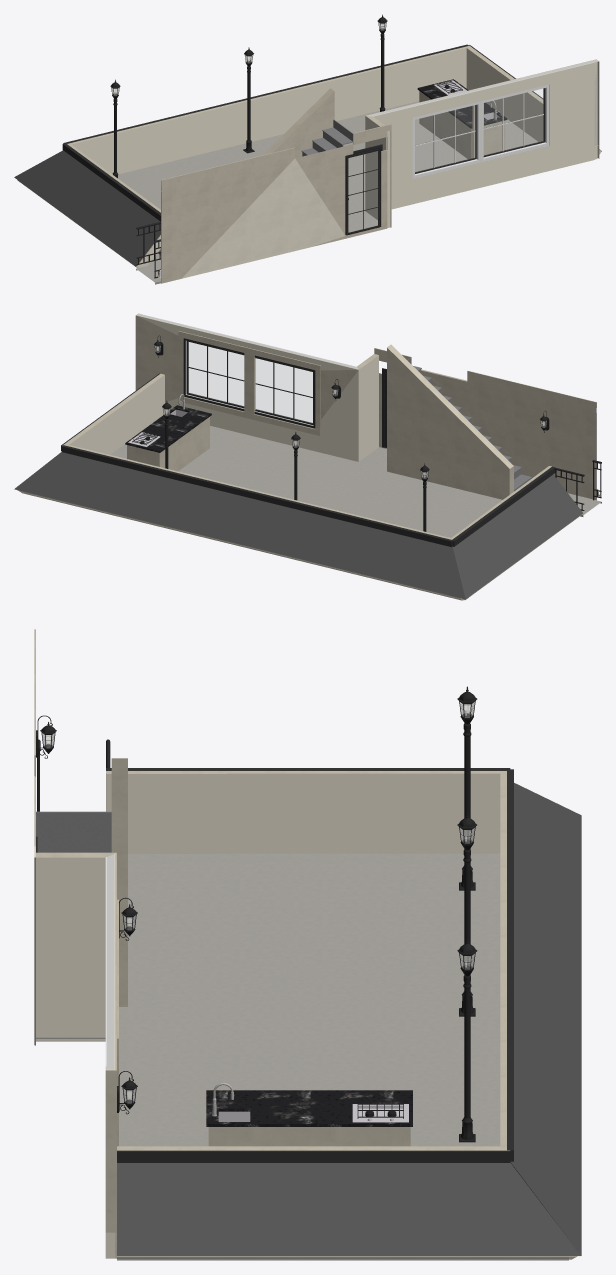
File: rear-deck-a4c5cec53ed3.glb
3 renders of one model, top to bottom at view 1: azimuth 30°, elevation 25°; view 2: azimuth 150°, elevation 25°; view 3: azimuth 270°, elevation 25°, orthographic. The views are drawn at different scales.
Parts seen in each view (by area): view 1: rear-deck-bd62734a7bc60eb7, rear-deck-32021a86c784f0e0, rear-deck-245f595ae2832e16, rear-deck-ded88bd99590d377, rear-deck-36ed5266b1bc40cd, rear-deck-85ede138eeba504d, rear-deck-cdd3b97a7e9637be, rear-deck-dd55bfb54febbe8b, rear-deck-b5f10ab9081c9955, rear-deck-7511cdbc362aca5e, rear-deck-6b027cd2e6bc0d64, rear-deck-09f90213aa0a4493 (+4 smaller); view 2: rear-deck-5febae1537653d02, rear-deck-ded88bd99590d377, rear-deck-bd62734a7bc60eb7, rear-deck-7511cdbc362aca5e, rear-deck-245f595ae2832e16, rear-deck-36ed5266b1bc40cd, rear-deck-cdd3b97a7e9637be, rear-deck-85ede138eeba504d, rear-deck-dd55bfb54febbe8b, rear-deck-d7a70b5818f54477, rear-deck-6b027cd2e6bc0d64, rear-deck-b5f10ab9081c9955 (+7 smaller); view 3: rear-deck-ded88bd99590d377, rear-deck-0e7e1de83ff8e24c, rear-deck-18b8f93424e26a44, rear-deck-5febae1537653d02, rear-deck-6b027cd2e6bc0d64, rear-deck-385241de3d752b47, rear-deck-5e5272df00660e4c, rear-deck-b5f10ab9081c9955, rear-deck-7511cdbc362aca5e, rear-deck-245f595ae2832e16, rear-deck-d7a70b5818f54477, rear-deck-32021a86c784f0e0 (+10 smaller).
Part boxes in pixels (<box>): rear-deck-bd62734a7bc60eb7: <box>161,124,391,283</box>; rear-deck-32021a86c784f0e0: <box>67,46,467,174</box>; rear-deck-245f595ae2832e16: <box>365,59,597,209</box>; rear-deck-ded88bd99590d377: <box>118,101,537,280</box>; rear-deck-36ed5266b1bc40cd: <box>14,150,160,266</box>; rear-deck-85ede138eeba504d: <box>412,101,480,178</box>; rear-deck-cdd3b97a7e9637be: <box>481,84,549,162</box>; rear-deck-dd55bfb54febbe8b: <box>466,45,543,141</box>; rear-deck-b5f10ab9081c9955: <box>419,91,505,159</box>; rear-deck-7511cdbc362aca5e: <box>263,88,334,158</box>; rear-deck-6b027cd2e6bc0d64: <box>365,115,390,227</box>; rear-deck-09f90213aa0a4493: <box>345,144,382,235</box>; rear-deck-5febae1537653d02: <box>14,452,465,599</box>; rear-deck-ded88bd99590d377: <box>110,426,596,537</box>; rear-deck-bd62734a7bc60eb7: <box>374,348,596,500</box>; rear-deck-7511cdbc362aca5e: <box>387,344,513,499</box>; rear-deck-245f595ae2832e16: <box>135,314,359,461</box>; rear-deck-36ed5266b1bc40cd: <box>453,474,582,598</box>; rear-deck-cdd3b97a7e9637be: <box>183,338,244,411</box>; rear-deck-85ede138eeba504d: <box>254,355,315,428</box>; rear-deck-dd55bfb54febbe8b: <box>62,373,164,454</box>; rear-deck-d7a70b5818f54477: <box>61,445,452,547</box>; rear-deck-6b027cd2e6bc0d64: <box>357,354,378,461</box>; rear-deck-b5f10ab9081c9955: <box>127,417,209,471</box>; rear-deck-ded88bd99590d377: <box>36,853,500,1146</box>; rear-deck-0e7e1de83ff8e24c: <box>117,1163,581,1256</box>; rear-deck-18b8f93424e26a44: <box>106,771,505,853</box>; rear-deck-5febae1537653d02: <box>510,783,581,1255</box>; rear-deck-6b027cd2e6bc0d64: <box>36,852,114,1036</box>; rear-deck-385241de3d752b47: <box>206,1090,412,1126</box>; rear-deck-5e5272df00660e4c: <box>117,1150,510,1162</box>; rear-deck-b5f10ab9081c9955: <box>208,1127,410,1146</box>; rear-deck-7511cdbc362aca5e: <box>111,758,127,1006</box>; rear-deck-245f595ae2832e16: <box>105,852,116,1258</box>; rear-deck-d7a70b5818f54477: <box>507,769,513,1161</box>; rear-deck-32021a86c784f0e0: <box>500,771,506,1148</box>.
Bounding box in the file's own units: 12.61 × 3.37 × 6.62.
29 materials, 5 textured.
